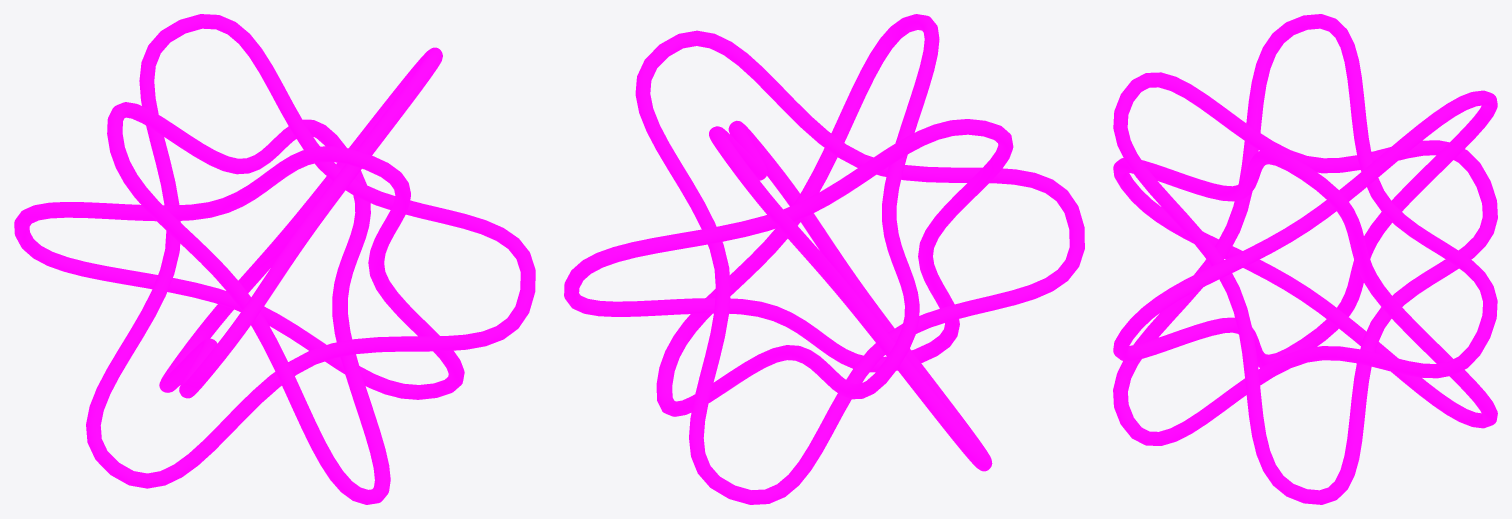
Rendered from wavy cube.fbx.
3 views of the same model, side by side, from view 1: azimuth 30°, elevation 25°; view 2: azimuth 150°, elevation 25°; view 3: azimuth 270°, elevation 25° (orthographic). The views are drawn at different scales.
Parts seen in each view (by area): view 1: Celtic.002; view 2: Celtic.002; view 3: Celtic.002.
Part boxes in pixels (bbox=[...]): Celtic.002: bbox=[14, 14, 535, 504]; Celtic.002: bbox=[564, 14, 1084, 504]; Celtic.002: bbox=[1113, 14, 1497, 504].
Bounding box in the file's own units: 216 × 216 × 216.
